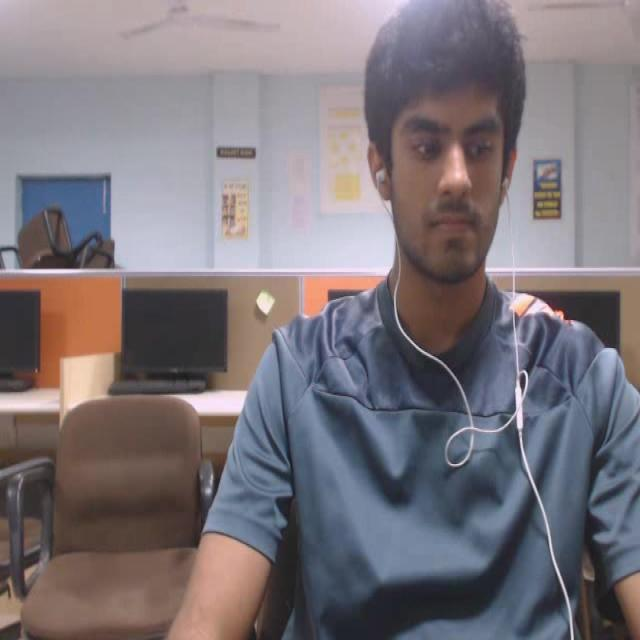Bored: (358, 0, 533, 315)
